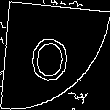O_N: (32, 27, 78, 83)
